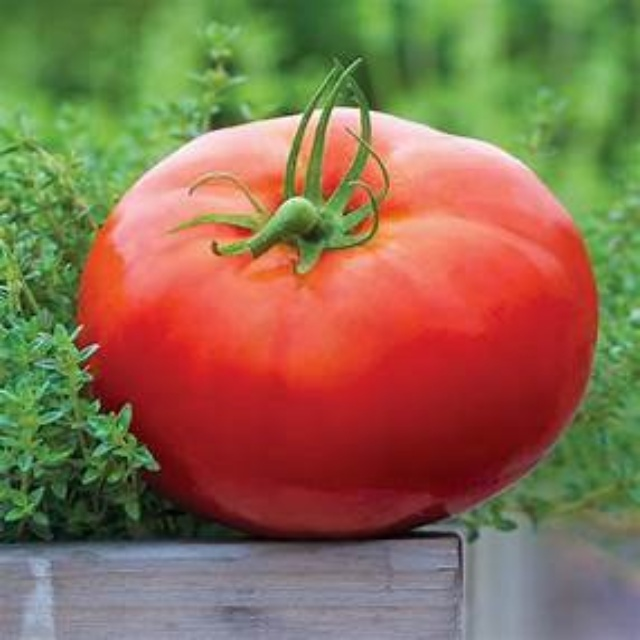tomato: (71, 115, 596, 541)
